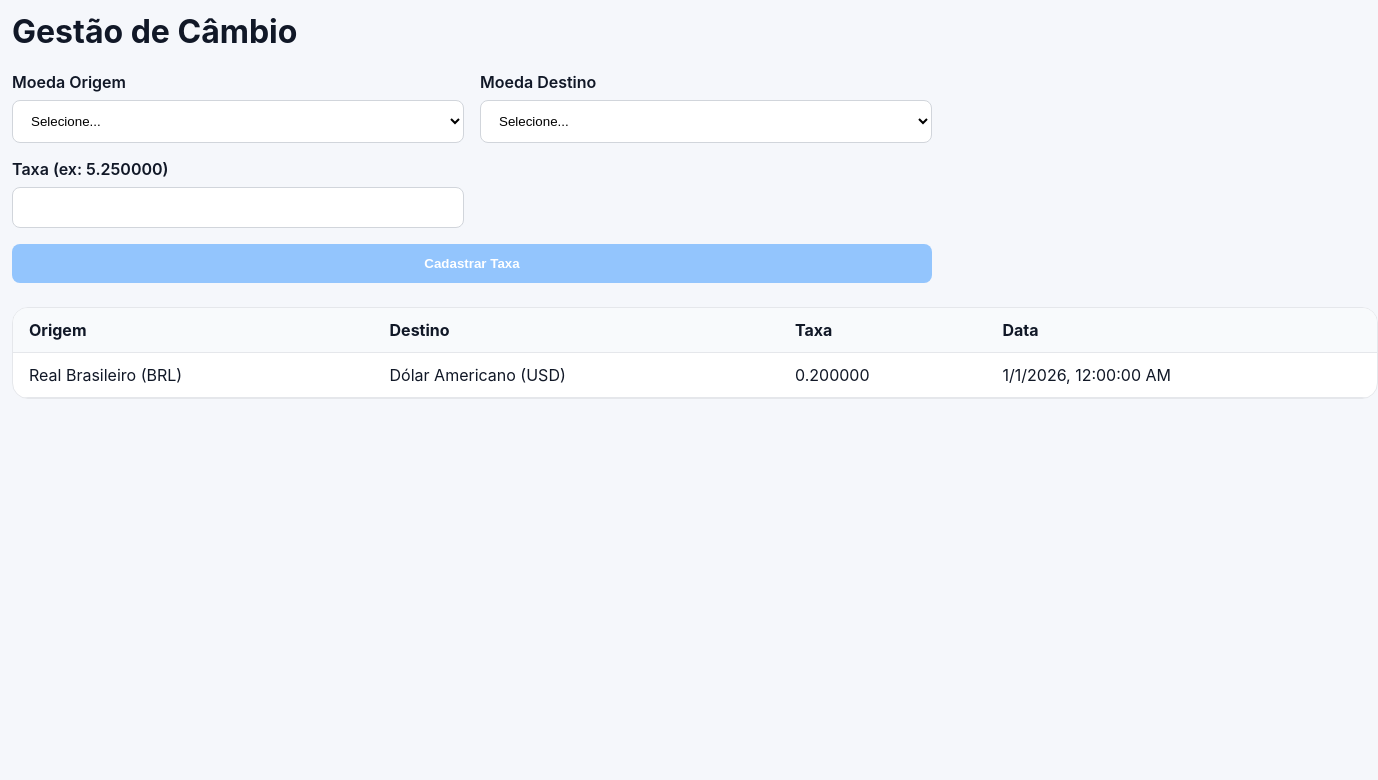
Test: CambioPage › submits a valid rate and refreshes the list
Expected: the text "0.200000" is shown, [779, 353, 986, 398]
Select "Real Brasileiro (BRL)" in the dropdown labelled "Moeda Origem" at (238, 122), box [12, 100, 464, 143]
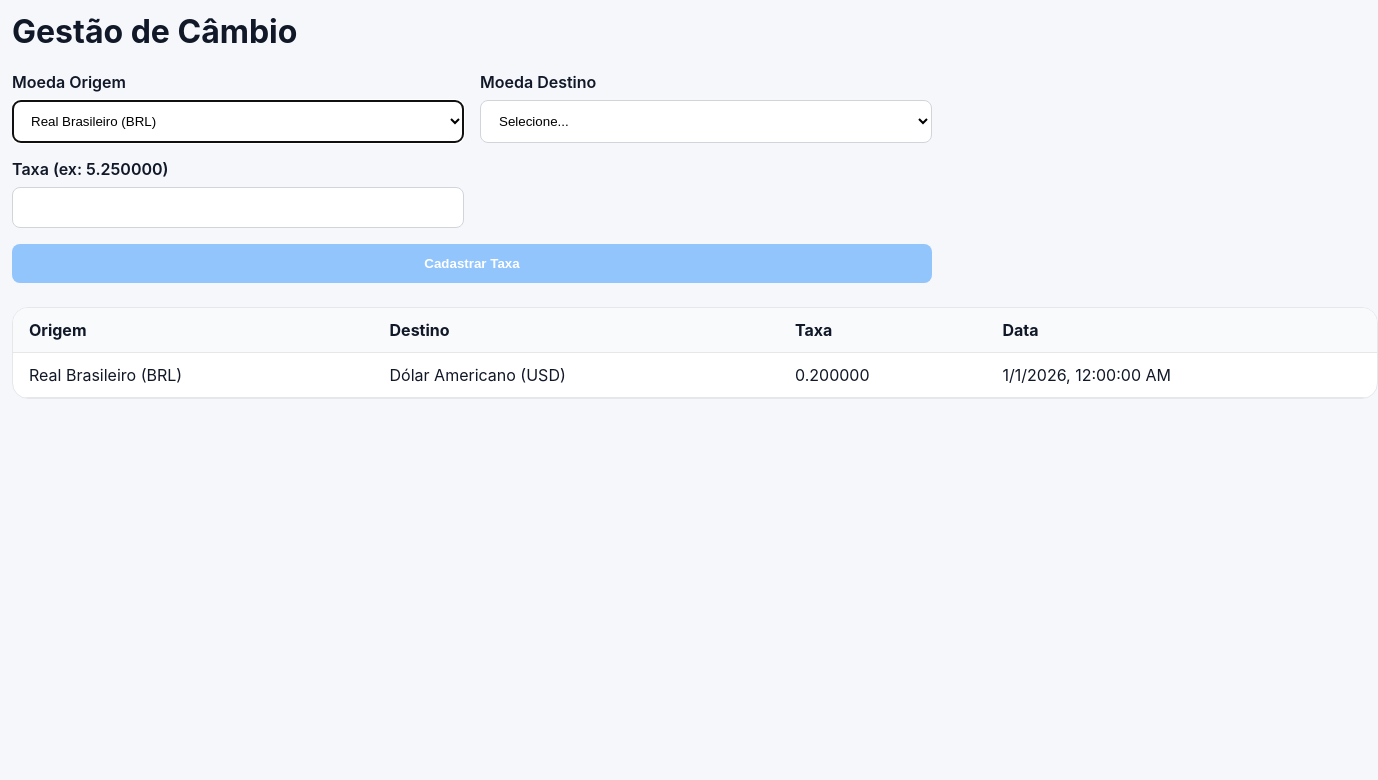
Select "Dólar Americano (USD)" in the dropdown labelled "Moeda Destino" at (706, 122), box [480, 100, 932, 143]
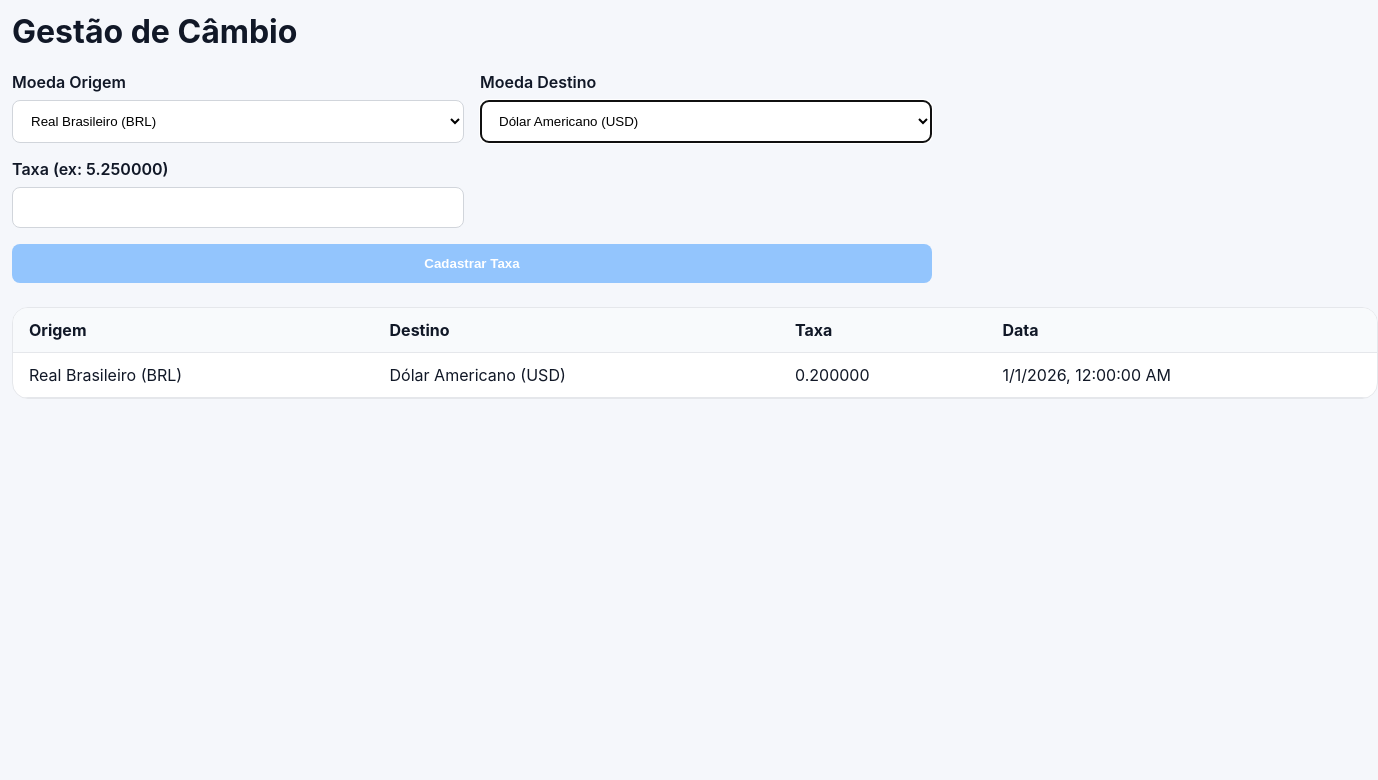
Type "5.25" into the field labelled "Taxa (ex: 5.250000)".
click(238, 208); type("5.25")  # box [12, 187, 464, 228]
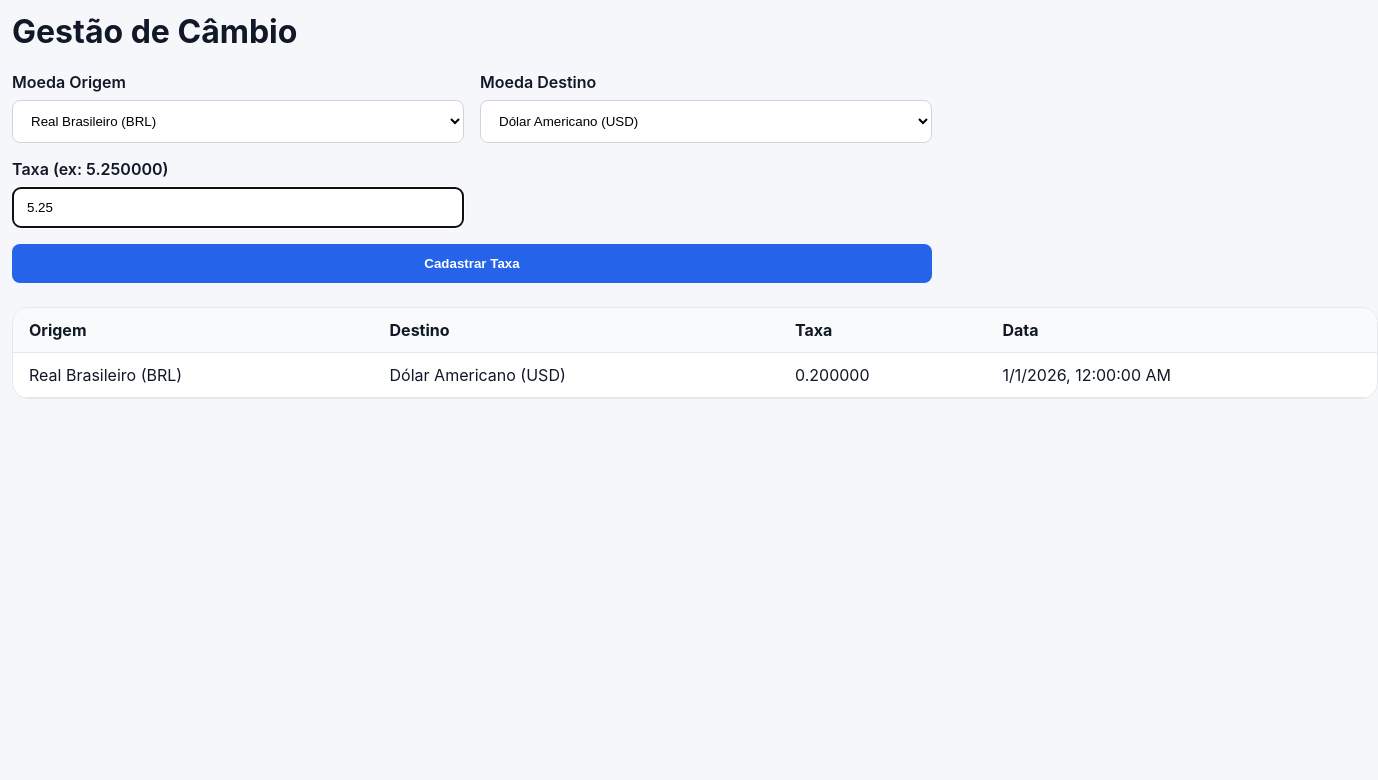
Click the button "Cadastrar Taxa".
click(472, 264)  # box [12, 244, 932, 283]
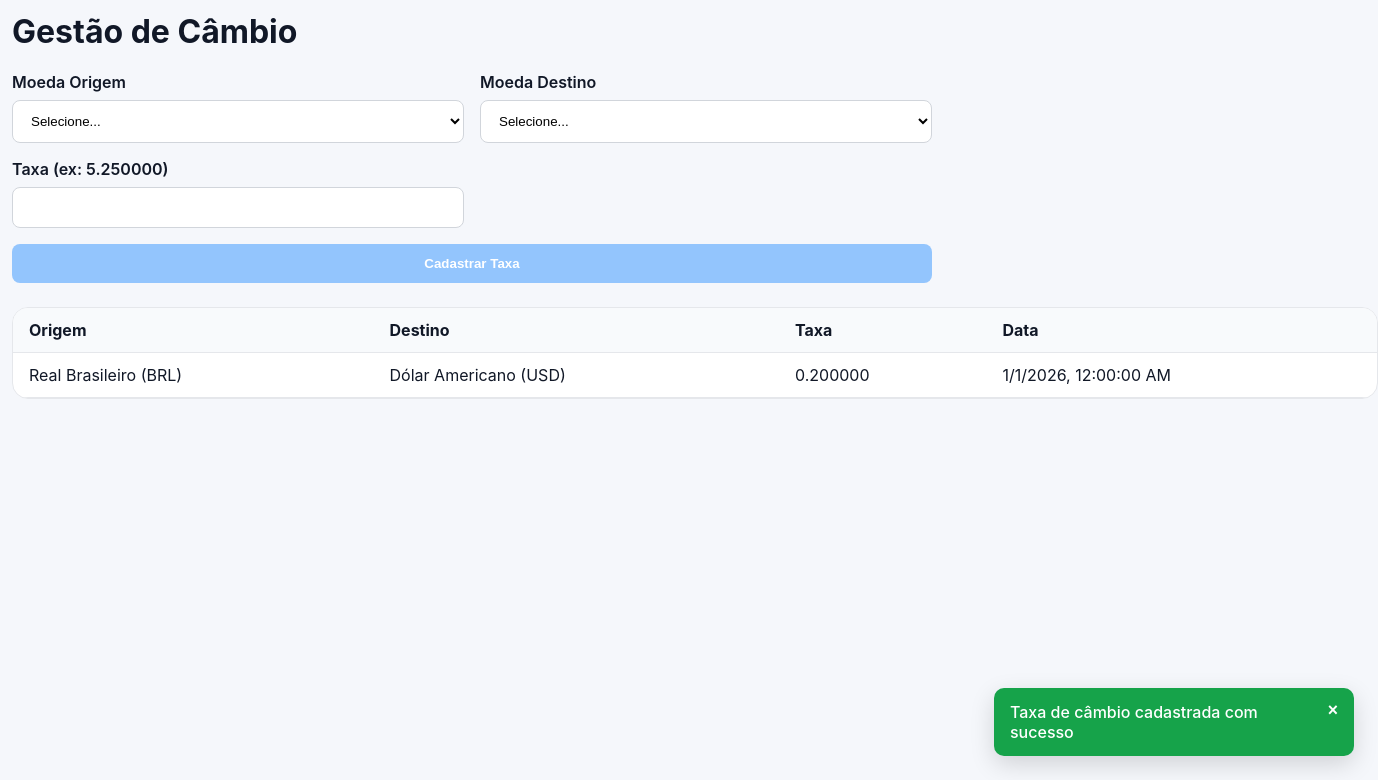
Result: the text "Taxa de câmbio cadastrada com sucesso" is shown at [1010, 702, 1258, 742]
